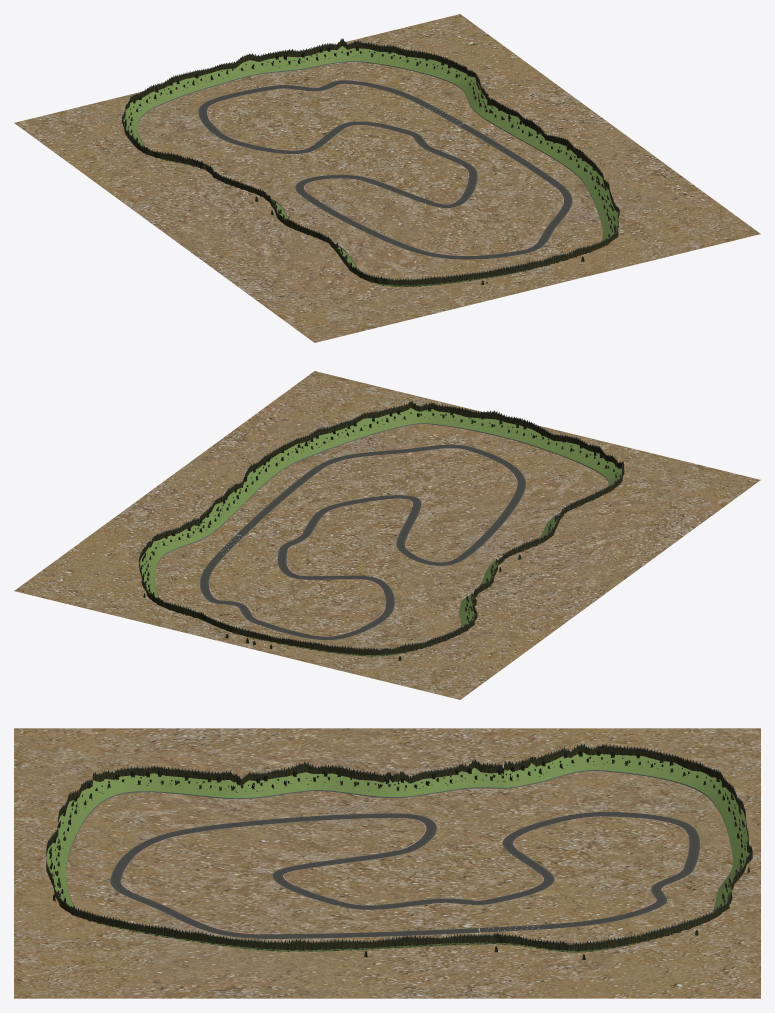
The picture shows the model from 3 angles, top to bottom: view 1: azimuth 30°, elevation 25°; view 2: azimuth 150°, elevation 25°; view 3: azimuth 270°, elevation 25°; orthographic projection. The views are drawn at different scales.
Visible parts, largest first — view 1: Plane, RaceTrack_Wall_00, RaceTrack_Main_00, RaceTrack_Trees_00; view 2: Plane, RaceTrack_Wall_00, RaceTrack_Main_00, RaceTrack_Trees_00; view 3: Plane, RaceTrack_Wall_00, RaceTrack_Main_00, RaceTrack_Trees_00, RaceTrack_Curbs_00.
Part boxes in pixels (x1,y1,x2,y2): Plane: [14, 14, 760, 342]; RaceTrack_Wall_00: [122, 38, 619, 287]; RaceTrack_Main_00: [198, 80, 572, 259]; RaceTrack_Trees_00: [124, 46, 616, 286]; Plane: [14, 371, 760, 699]; RaceTrack_Wall_00: [139, 401, 624, 656]; RaceTrack_Main_00: [199, 444, 526, 640]; RaceTrack_Trees_00: [141, 407, 621, 660]; Plane: [14, 728, 760, 998]; RaceTrack_Wall_00: [46, 743, 752, 952]; RaceTrack_Main_00: [110, 812, 700, 938]; RaceTrack_Trees_00: [49, 750, 749, 959]; RaceTrack_Curbs_00: [120, 816, 688, 934].
Size of the model in its own units: 900 by 36.08 by 1050.
